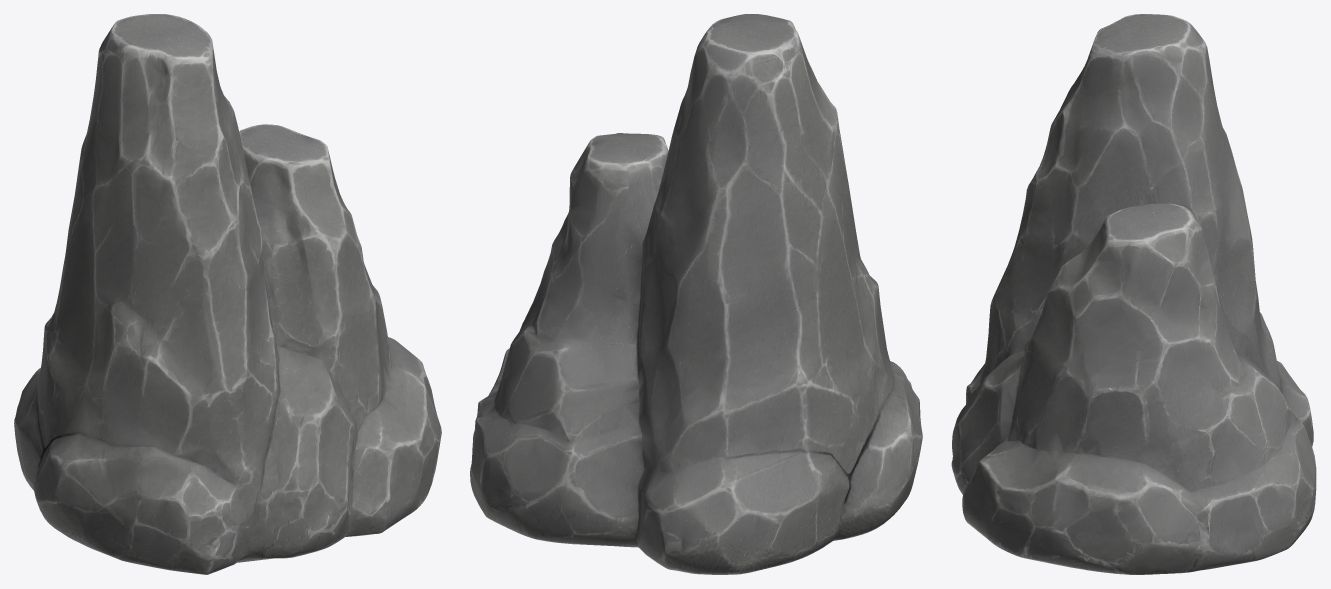
File: Meshy_AI_Twin_Peaks_0513154839_texture.fbx
3 renders of one model, left to right at view 1: azimuth 30°, elevation 25°; view 2: azimuth 150°, elevation 25°; view 3: azimuth 270°, elevation 25°, orthographic. The views are drawn at different scales.
Parts seen in each view (by area): view 1: Mesh_0; view 2: Mesh_0; view 3: Mesh_0.
Boxes of the visible parts, bbox=[...] form: Mesh_0: bbox=[14, 14, 441, 574]; Mesh_0: bbox=[470, 14, 922, 574]; Mesh_0: bbox=[951, 14, 1316, 574].
Bounding box in the file's own units: 164 × 191 × 145.
1 material, 1 textured.
